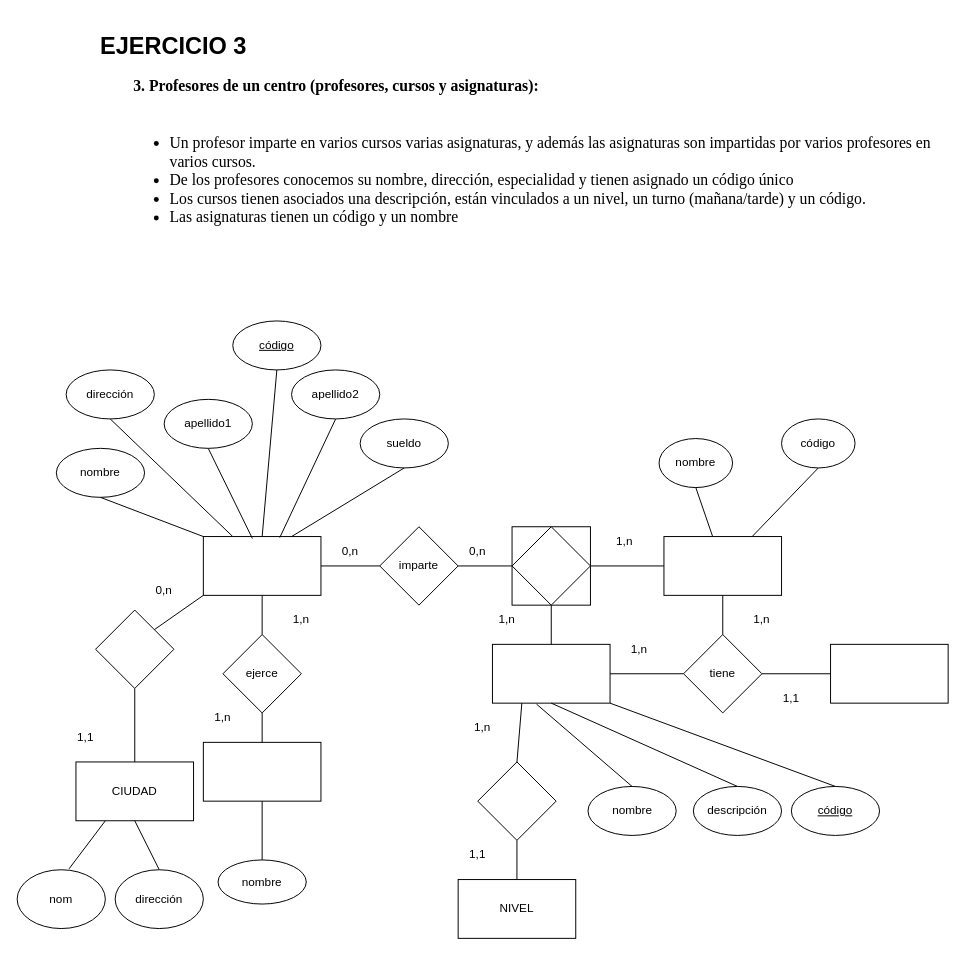
Image size: 965x956. Some labels were removed from this diagram. The box of each missing label's shape, as (x1, y1, x2, y2) in pixels:
ASIGNATURAS: (663, 536, 782, 595)
CURSOS: (491, 643, 610, 703)
es: (477, 761, 556, 840)
ESPECIALIDAD: (202, 741, 321, 801)
pertenece: (511, 526, 590, 605)
PROFESOR: (202, 536, 321, 595)
TURNO MAÑANA/TARDE: (830, 643, 948, 703)
vive: (95, 609, 174, 688)
